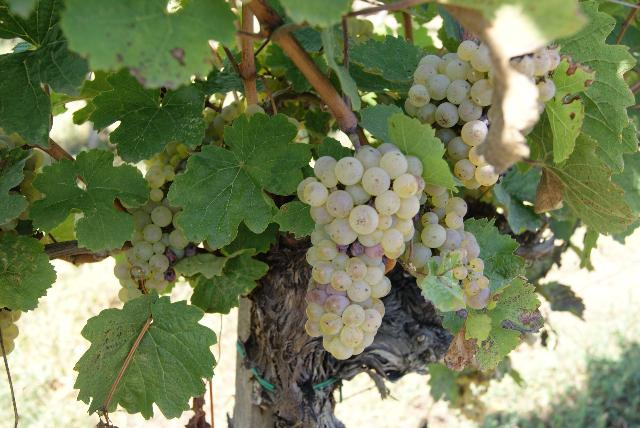grapes: (298, 144, 430, 360), (405, 41, 498, 189), (430, 198, 491, 310)
